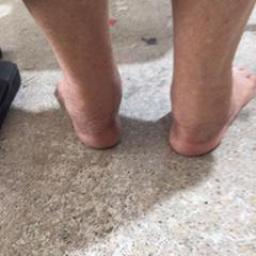Back View -Both Feet-: (40, 34, 255, 167)
